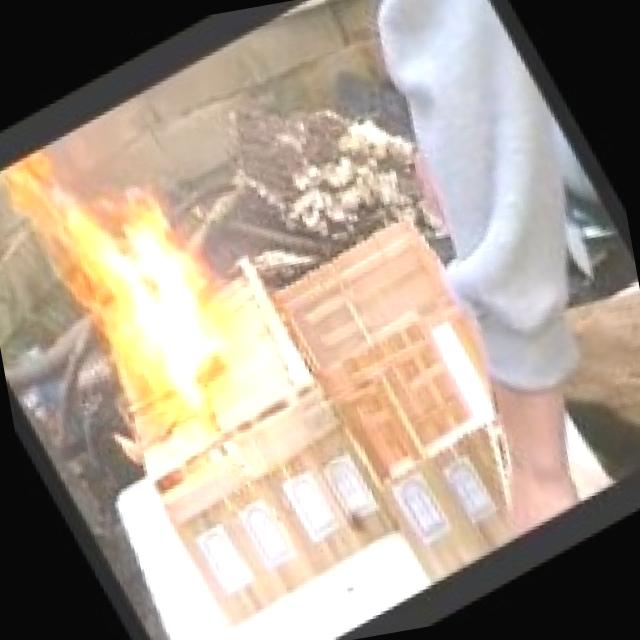fire: (0, 91, 266, 450)
